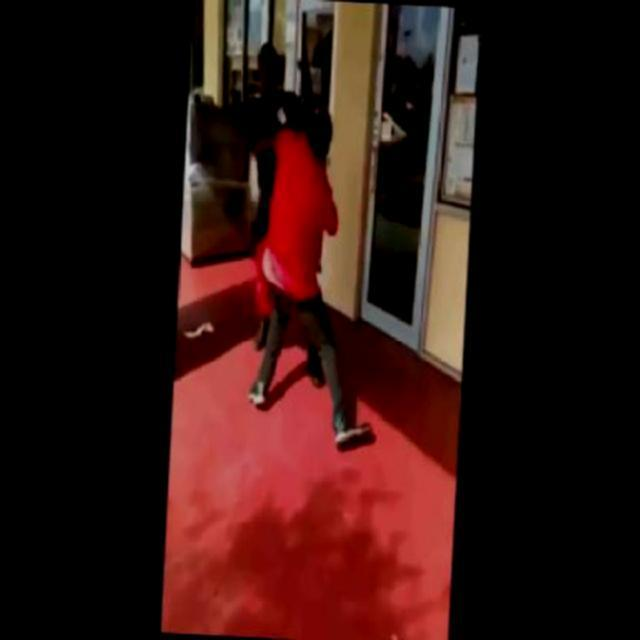fight: (229, 40, 377, 457)
